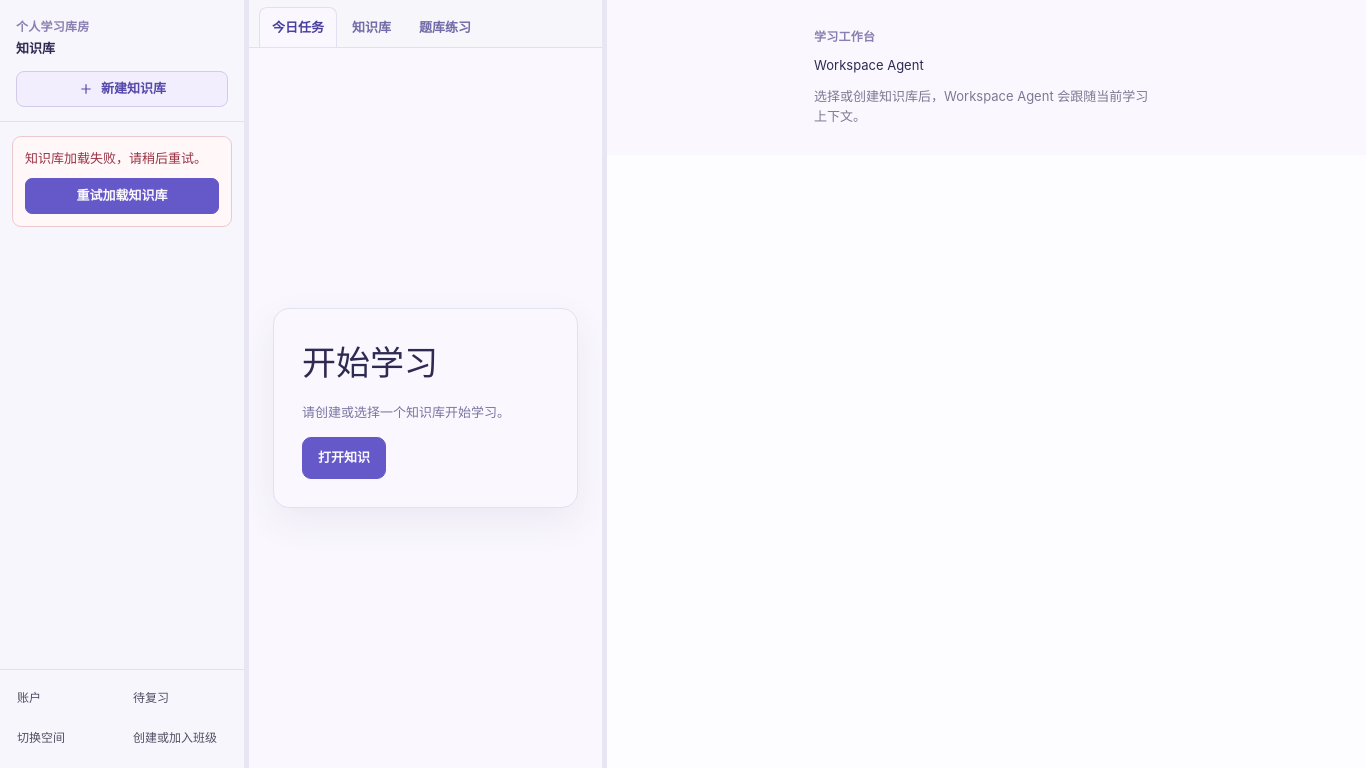
Test: HomePage › loads authenticated space summaries into the workspace
The image size is (1366, 768).
Click the button "切换空间": click(64, 738) [8,720,120,756]
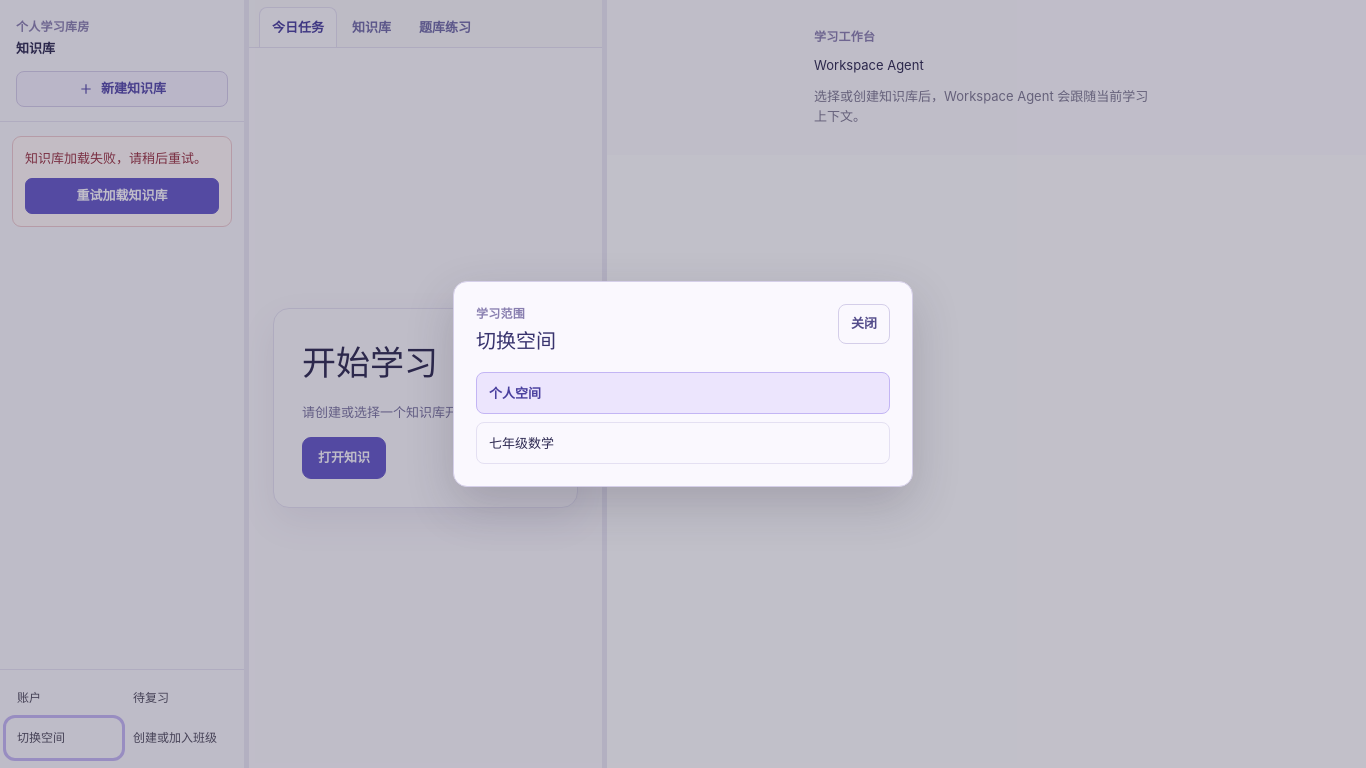
Expected: the dialog "切换空间" is shown, [453,281,913,487]
Expected: the button "个人空间" is shown, [476,372,890,414]
Expected: the button "七年级数学" is shown, [476,422,890,464]
